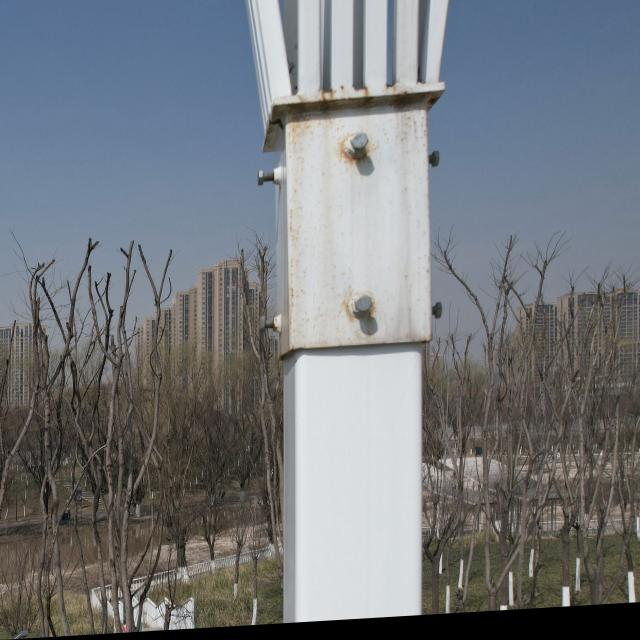Regular bolt: (356, 300, 374, 319), (352, 137, 370, 156), (260, 319, 270, 336), (258, 174, 268, 191), (436, 309, 444, 326), (433, 157, 441, 173)
